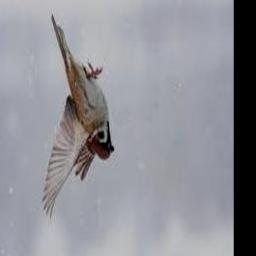Sparrow: (41, 15, 114, 219)
